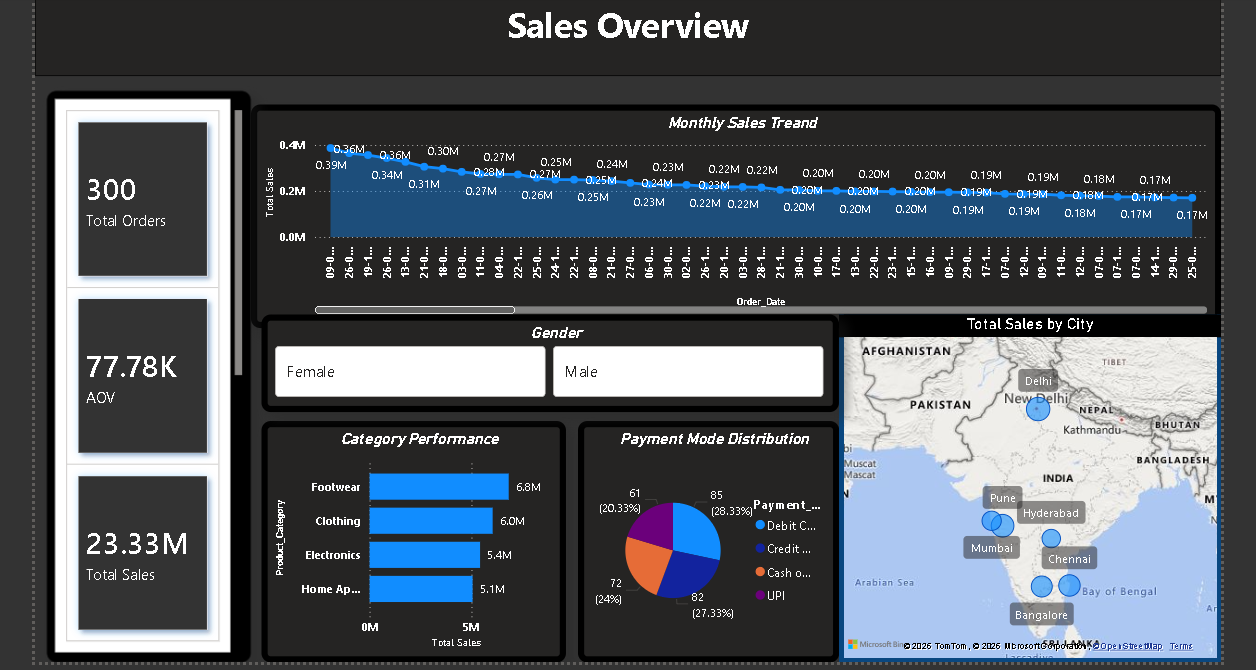

The dashboard page shown, as its layout file describes it:
{"tool":"powerbi","page":{"name":"Page 1","canvas":[1280,720],"ordinal":0},"visuals":[{"type":"lineChart","title":"Monthly Sales Treand","fields":{"Category":["Ecommerce_Data.Order_Date"],"Y":["Ecommerce_Data.Total Sales"]},"box":[233.2,118.2,1047.6,241.3],"z":0},{"type":"cardVisual","fields":{"Data":["Ecommerce_Data.Total Orders","Ecommerce_Data.AOV","Ecommerce_Data.Total Sales","Ecommerce_Data.Return %","Ecommerce_Data.Cancellation %","Ecommerce_Data.Total Customers"]},"box":[13,103.6,220.2,616.9],"z":1000},{"type":"barChart","title":"Category Performance","fields":{"Category":["Ecommerce_Data.Product_Category"],"Y":["Ecommerce_Data.Total Sales"]},"box":[244.5,459.9,328.7,260.7],"z":2000},{"type":"pieChart","title":" Payment Mode Distribution","fields":{"Category":["Ecommerce_Data.Payment_Mode"],"Y":["Ecommerce_Data.Total Orders"]},"box":[586.2,459.9,281.7,260.7],"z":3000},{"type":"textbox","box":[0,0,1280.8,87.4],"z":4000},{"type":"map","fields":{"Category":["Ecommerce_Data.City"],"Size":["Ecommerce_Data.Total Sales"]},"box":[867.9,344.9,412.9,375.7],"z":9000},{"type":"advancedSlicerVisual","fields":{"Values":["Ecommerce_Data.Gender"]},"box":[244.5,344.9,623.4,105.2],"z":9001}]}

Visuals, with their boxes on the page's 1280x720 design canvas (x1, y1, x2, y2). These are canvas units, not pixel positions in the 1256x670 screenshot, which may show the page scaled, cropped or inside an application window:
"Monthly Sales Treand" lineChart: x1=233, y1=118, x2=1281, y2=360
cardVisual - Ecommerce_Data.Total Orders x Ecommerce_Data.AOV: x1=13, y1=104, x2=233, y2=720
"Category Performance" barChart: x1=244, y1=460, x2=573, y2=721
" Payment Mode Distribution" pieChart: x1=586, y1=460, x2=868, y2=721
textbox: x1=0, y1=0, x2=1281, y2=87
map - Ecommerce_Data.City x Ecommerce_Data.Total Sales: x1=868, y1=345, x2=1281, y2=721
advancedSlicerVisual - Ecommerce_Data.Gender: x1=244, y1=345, x2=868, y2=450
